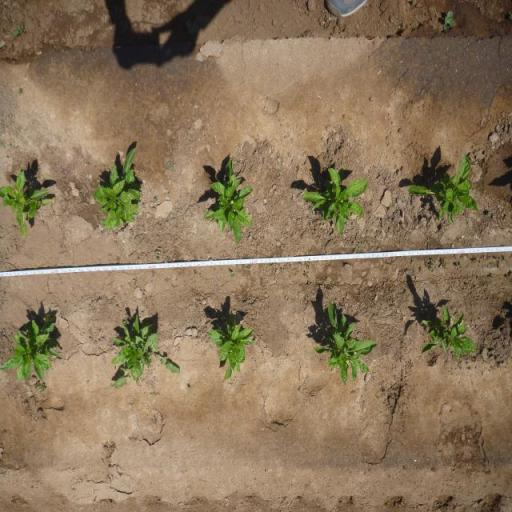plant: (310, 297, 380, 387), (404, 150, 479, 226), (200, 153, 254, 248), (302, 166, 368, 236), (93, 144, 142, 234), (0, 311, 62, 381), (0, 167, 54, 239), (419, 302, 479, 362), (209, 312, 255, 384), (108, 312, 148, 382)
weed: (148, 332, 182, 376), (441, 8, 456, 32), (185, 18, 200, 36), (30, 380, 48, 392), (12, 22, 26, 36), (424, 258, 437, 272), (352, 240, 362, 254), (154, 248, 162, 262), (166, 160, 175, 170), (439, 258, 447, 269), (455, 261, 464, 270), (304, 260, 312, 270), (302, 270, 310, 278), (18, 86, 24, 96), (166, 148, 172, 158), (472, 256, 479, 264), (307, 281, 314, 289), (152, 195, 158, 203), (386, 262, 398, 266), (229, 270, 235, 278), (192, 268, 198, 276), (490, 274, 497, 280), (487, 210, 492, 218), (502, 256, 508, 262), (410, 270, 416, 276), (270, 262, 276, 268), (0, 142, 5, 148), (496, 256, 500, 263), (418, 266, 422, 272), (280, 267, 284, 273), (188, 384, 191, 392)
